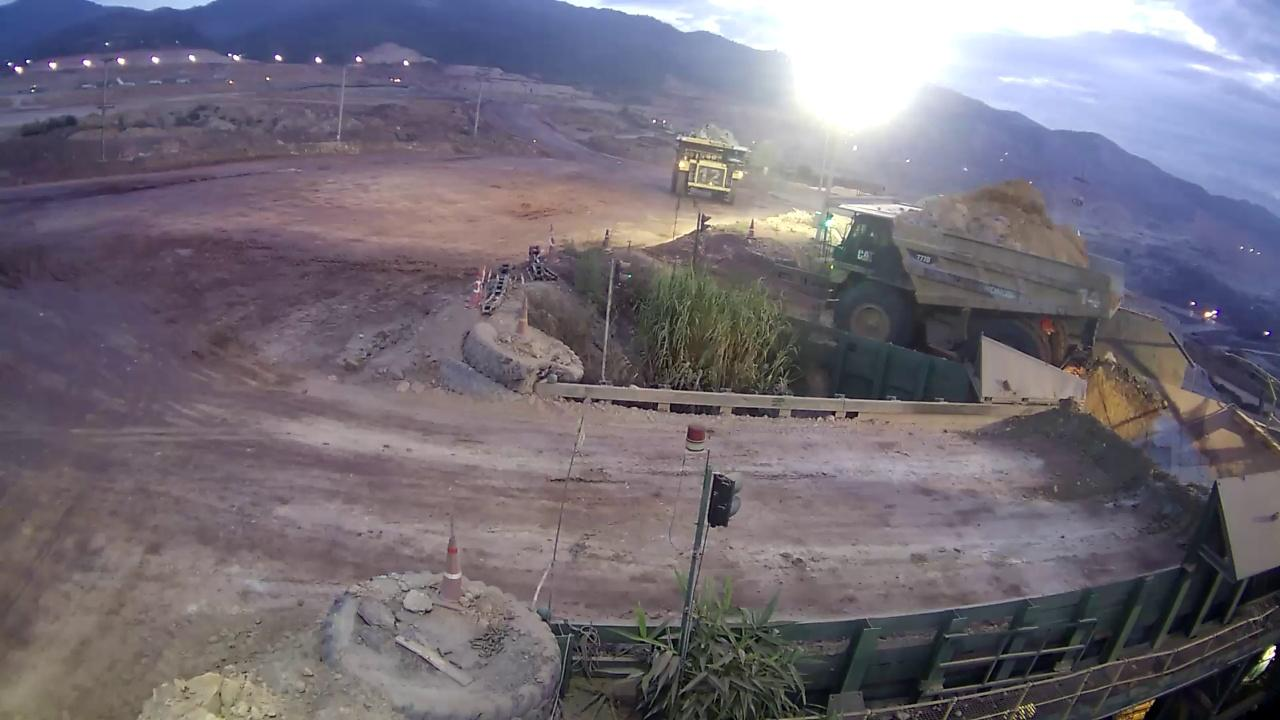front_number: (697, 167, 724, 189)
full_load: (924, 171, 1074, 253), (693, 122, 739, 144)
mining_truck: (818, 152, 1126, 373), (669, 121, 751, 207)
tail_number: (1068, 281, 1110, 312)
